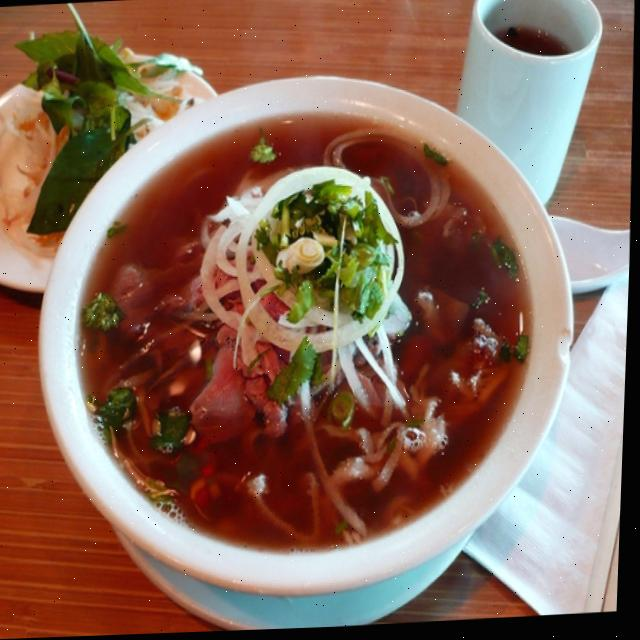面条主食: (9, 30, 604, 615)
